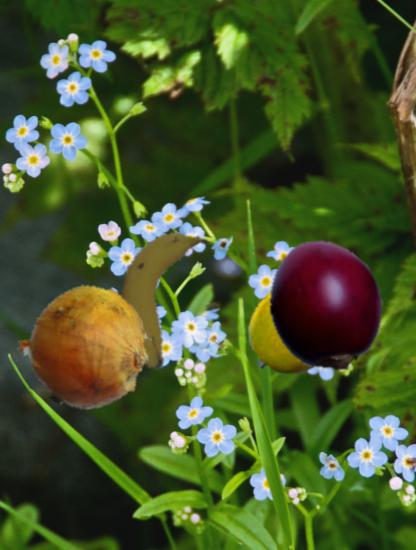Banana: (86, 226, 230, 370)
Maracuja: (242, 267, 358, 383)
Onion: (24, 283, 152, 411)
Tamarillo: (259, 239, 393, 373)
